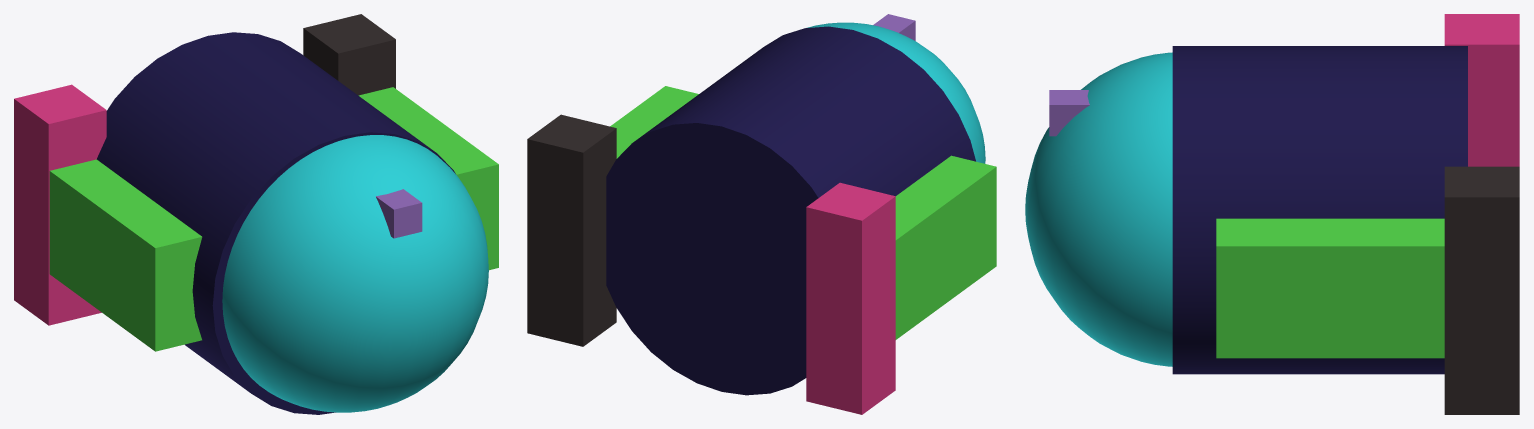
3 renders of one model, left to right at view 1: azimuth 30°, elevation 25°; view 2: azimuth 150°, elevation 25°; view 3: azimuth 270°, elevation 25°, orthographic. The views are drawn at different scales.
Size of the model in its own units: 1.32 by 1 by 1.51.
